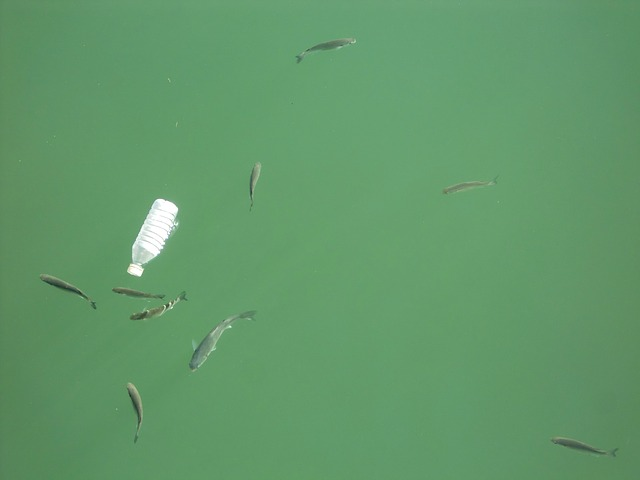plastic_bottle: (123, 194, 183, 280)
